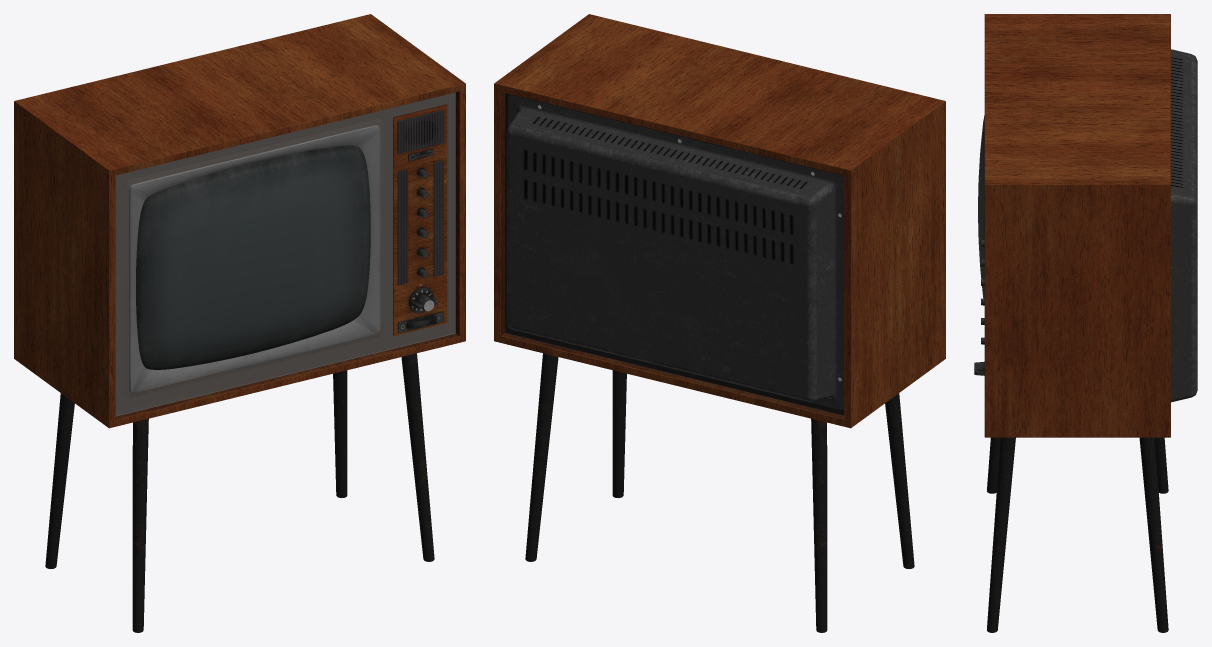
The model's file is retrotv.obj.
The picture shows the model from 3 angles, left to right: view 1: azimuth 30°, elevation 25°; view 2: azimuth 150°, elevation 25°; view 3: azimuth 270°, elevation 25°; orthographic projection. The views are drawn at different scales.
Parts seen in each view (by area): view 1: TV_Cube; view 2: TV_Cube; view 3: TV_Cube.
Part boxes in pixels (x1,y1,x2,y2): TV_Cube: [14, 14, 465, 632]; TV_Cube: [494, 14, 945, 632]; TV_Cube: [978, 14, 1197, 632].
Bounding box in the file's own units: 1.01 × 1.28 × 0.5596.
